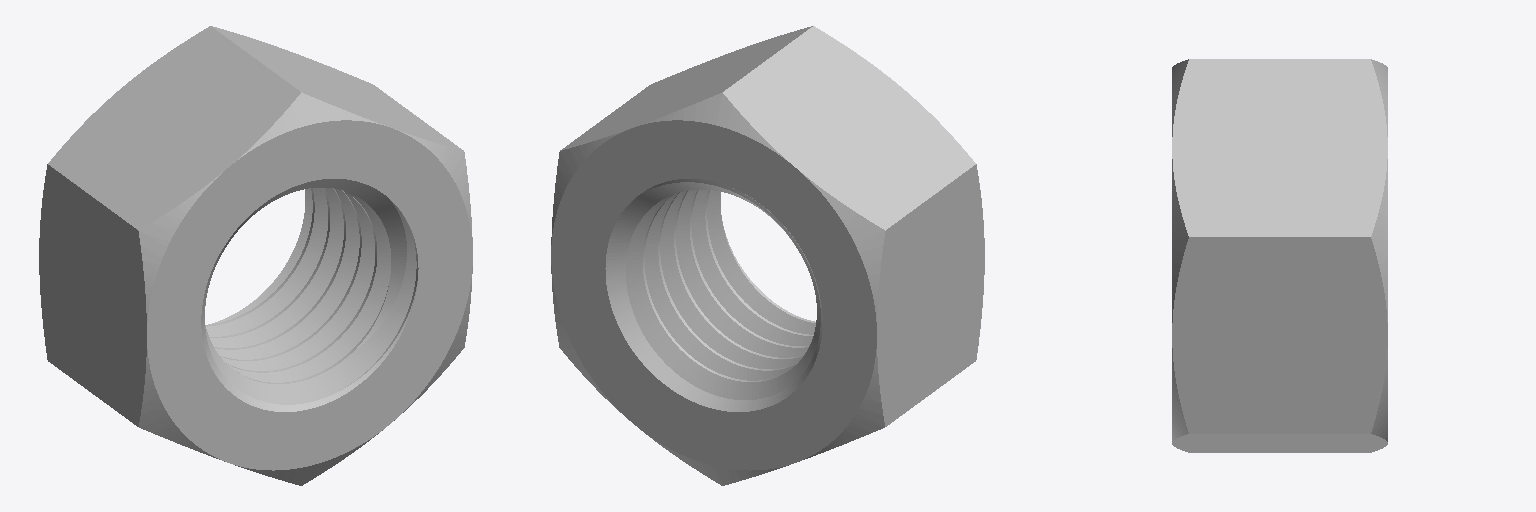
The model's file is model3_nut.obj.
3 views of the same model, side by side, from view 1: azimuth 30°, elevation 25°; view 2: azimuth 150°, elevation 25°; view 3: azimuth 270°, elevation 25° (orthographic).
Visible parts, largest first — view 1: Mirror1; view 2: Mirror1; view 3: Mirror1.
Part boxes in pixels (x1,y1,x2,y2): Mirror1: (39, 26, 472, 485); Mirror1: (551, 26, 984, 485); Mirror1: (1172, 59, 1387, 452).
Bounding box in the file's own units: 1.5 × 1.73 × 0.8594.